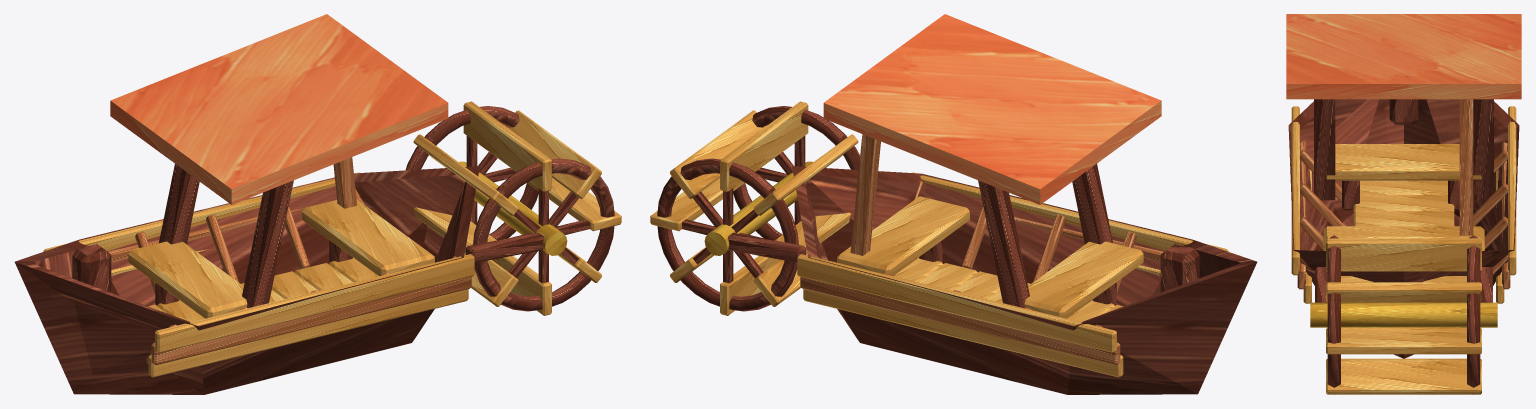
File: 05_手绘油画候选.glb
The picture shows the model from 3 angles, left to right: view 1: azimuth 30°, elevation 25°; view 2: azimuth 150°, elevation 25°; view 3: azimuth 270°, elevation 25°; orthographic projection. The views are drawn at different scales.
Parts seen in each view (by area): view 1: folded_ferry; view 2: folded_ferry; view 3: folded_ferry.
Part boxes in pixels (box(x1,y1,x2,y2)): folded_ferry: box(14, 14, 621, 394); folded_ferry: box(650, 14, 1257, 394); folded_ferry: box(1286, 14, 1521, 394).
Size of the model in its own units: 2.65 by 1.16 by 0.98.
2 materials, 2 textured.
